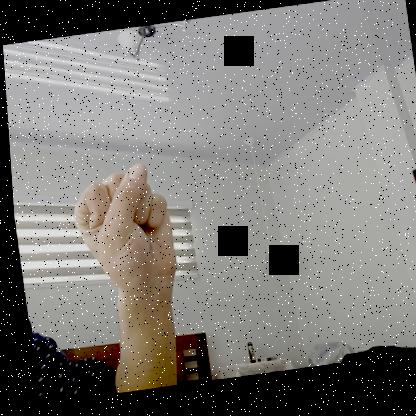S: (65, 161, 177, 302)
